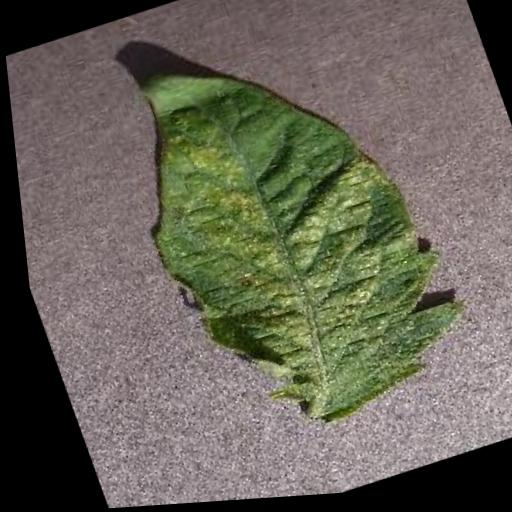Spider Mites: (92, 9, 484, 460)
